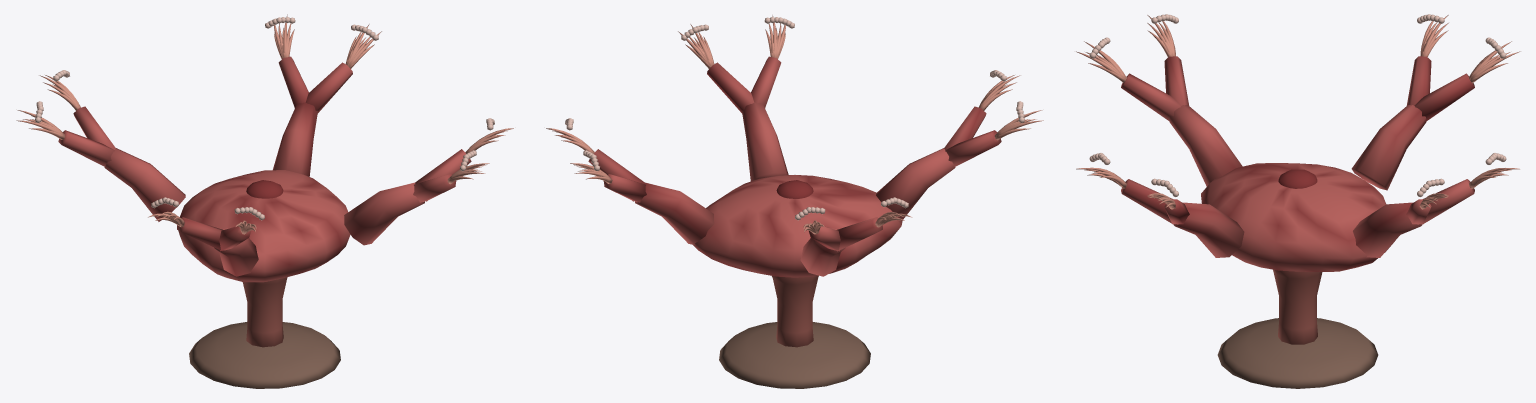
The model's file is Haootia.fbx.
3 renders of one model, left to right at view 1: azimuth 30°, elevation 25°; view 2: azimuth 150°, elevation 25°; view 3: azimuth 270°, elevation 25°, orthographic. The views are drawn at different scales.
Visible parts, largest first — view 1: Haootia; view 2: Haootia; view 3: Haootia.
Boxes of the visible parts, x1=… form: Haootia: x1=16, y1=14, x2=513, y2=388; Haootia: x1=546, y1=15, x2=1043, y2=388; Haootia: x1=1076, y1=14, x2=1520, y2=388.
Size of the model in its own units: 1.06 by 0.6805 by 1.06.
